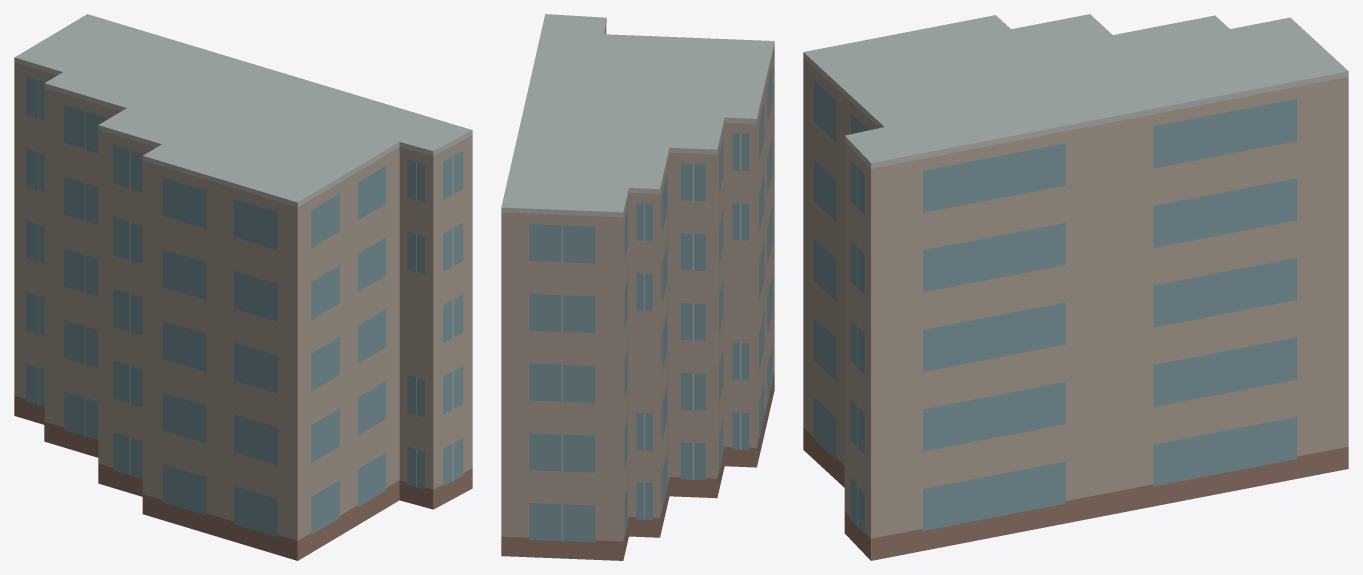
File: survey-upis-32714172.glb
The picture shows the model from 3 angles, left to right: view 1: azimuth 30°, elevation 25°; view 2: azimuth 150°, elevation 25°; view 3: azimuth 270°, elevation 25°; orthographic projection. The views are drawn at different scales.
Visible parts, largest first — view 1: survey-upis-32714172.tmp; view 2: survey-upis-32714172.tmp; view 3: survey-upis-32714172.tmp.
Boxes of the visible parts, left/top/right/bottom form: survey-upis-32714172.tmp: left=14, top=14, right=472, bottom=560; survey-upis-32714172.tmp: left=501, top=14, right=774, bottom=560; survey-upis-32714172.tmp: left=803, top=14, right=1348, bottom=560.
Size of the model in its own units: 13.93 by 17.3 by 21.51.
